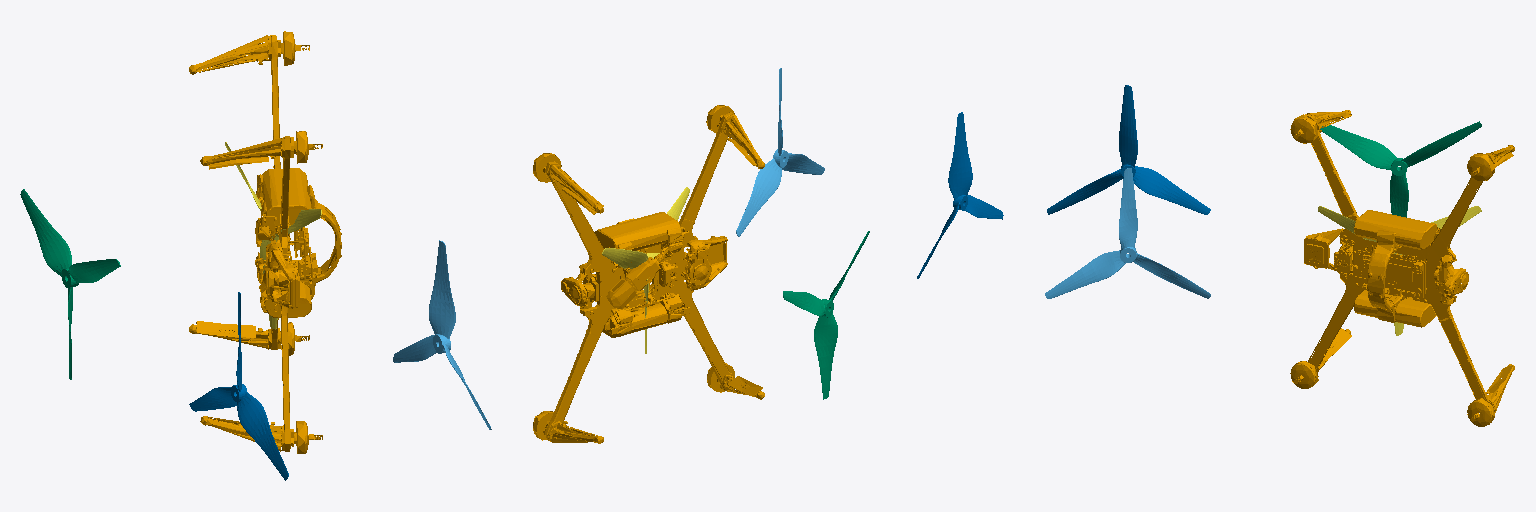
The robot description file, URDF, robot "starling2max":
<?xml version="1.0" encoding="UTF-8"?>
<robot name="starling2max">
  <joint name="joint0" type="continuous">
    <origin xyz="0.095 -0.13 0.0195" rpy="0. 0. 0."/>
    <parent link="vehicle"/>
    <child link="vehicle_rotor0"/>
    <axis xyz="0. 0. 1."/>
  </joint>
  <joint name="joint1" type="continuous">
    <origin xyz="-0.095 0.13 0.0195" rpy="0. 0. 0."/>
    <parent link="vehicle"/>
    <child link="vehicle_rotor1"/>
    <axis xyz="0. 0. 1."/>
  </joint>
  <joint name="joint2" type="continuous">
    <origin xyz="0.095 0.13 0.0195" rpy="0. 0. 0."/>
    <parent link="vehicle"/>
    <child link="vehicle_rotor2"/>
    <axis xyz="0. 0. 1."/>
  </joint>
  <joint name="joint3" type="continuous">
    <origin xyz="-0.095 -0.13 0.0195" rpy="0. 0. 0."/>
    <parent link="vehicle"/>
    <child link="vehicle_rotor3"/>
    <axis xyz="0. 0. 1."/>
  </joint>
  <link name="vehicle">
    <inertial>
      <origin xyz="0.00102 0.00016 0.00741" rpy="0. 0. 0."/>
      <mass value="0.46788"/>
      <inertia ixx="0.002943" ixy="0." ixz="0." iyy="0.001857" iyz="0." izz="0.004649"/>
    </inertial>
    <visual>
      <origin xyz="0.095 0.13 0.005" rpy="1.5707963 -0.0000001 1.103188 "/>
      <geometry>
        <mesh filename="meshes/body.stl" scale="1. 1. 1."/>
      </geometry>
    </visual>
    <collision>
      <origin xyz="0.095 0.13 0.005" rpy="1.5707963 -0.0000001 1.103188 "/>
      <geometry>
        <mesh filename="meshes/body.stl" scale="1. 1. 1."/>
      </geometry>
    </collision>
  </link>
  <link name="vehicle_rotor0">
    <inertial>
      <origin xyz="0. 0. 0." rpy="0. 0. 0."/>
      <mass value="0.007"/>
      <inertia ixx="0.000016" ixy="0." ixz="0." iyy="0.000016" iyz="0." izz="0.00003"/>
    </inertial>
    <visual>
      <origin xyz="-0. -0. 0." rpy="1.5707964 0. 1.5707963"/>
      <geometry>
        <mesh filename="meshes/rotor0.stl" scale="1. 1. 1."/>
      </geometry>
    </visual>
    <collision>
      <origin xyz="-0. -0. 0." rpy="1.5707964 0. 1.5707963"/>
      <geometry>
        <mesh filename="meshes/rotor0.stl" scale="1. 1. 1."/>
      </geometry>
    </collision>
  </link>
  <link name="vehicle_rotor1">
    <inertial>
      <origin xyz="0. 0. 0." rpy="0. 0. 0."/>
      <mass value="0.007"/>
      <inertia ixx="0.000016" ixy="0." ixz="0." iyy="0.000016" iyz="0." izz="0.00003"/>
    </inertial>
    <visual>
      <origin xyz="0. 0. -0." rpy="1.5707964 0. -1.5707959"/>
      <geometry>
        <mesh filename="meshes/rotor1.stl" scale="1. 1. 1."/>
      </geometry>
    </visual>
    <collision>
      <origin xyz="0. 0. -0." rpy="1.5707964 0. -1.5707959"/>
      <geometry>
        <mesh filename="meshes/rotor1.stl" scale="1. 1. 1."/>
      </geometry>
    </collision>
  </link>
  <link name="vehicle_rotor2">
    <inertial>
      <origin xyz="0. 0. 0." rpy="0. 0. 0."/>
      <mass value="0.007"/>
      <inertia ixx="0.000016" ixy="0." ixz="0." iyy="0.000016" iyz="0." izz="0.00003"/>
    </inertial>
    <visual>
      <origin xyz="0. -0. 0." rpy="1.5707964 0. -1.5707959"/>
      <geometry>
        <mesh filename="meshes/rotor2.stl" scale="1. 1. 1."/>
      </geometry>
    </visual>
    <collision>
      <origin xyz="0. -0. 0." rpy="1.5707964 0. -1.5707959"/>
      <geometry>
        <mesh filename="meshes/rotor2.stl" scale="1. 1. 1."/>
      </geometry>
    </collision>
  </link>
  <link name="vehicle_rotor3">
    <inertial>
      <origin xyz="0. 0. 0." rpy="0. 0. 0."/>
      <mass value="0.007"/>
      <inertia ixx="0.000016" ixy="0." ixz="0." iyy="0.000016" iyz="0." izz="0.00003"/>
    </inertial>
    <visual>
      <origin xyz="-0. 0. -0." rpy="1.5707964 0. 1.5707963"/>
      <geometry>
        <mesh filename="meshes/rotor3.stl" scale="1. 1. 1."/>
      </geometry>
    </visual>
    <collision>
      <origin xyz="-0. 0. -0." rpy="1.5707964 0. 1.5707963"/>
      <geometry>
        <mesh filename="meshes/rotor3.stl" scale="1. 1. 1."/>
      </geometry>
    </collision>
  </link>
</robot>

--- Facts derived from the render (not from the file) ---
The picture shows the robot from 3 angles, left to right: view 1: azimuth 30°, elevation 25°; view 2: azimuth 150°, elevation 25°; view 3: azimuth 270°, elevation 25°; orthographic projection.
Model starling2max with 5 links and 4 joints (4 continuous), rooted at vehicle, posed all joints at 0.
Visible links, largest first — view 1: vehicle, vehicle_rotor1, vehicle_rotor0, vehicle_rotor3, vehicle_rotor2; view 2: vehicle, vehicle_rotor0, vehicle_rotor1, vehicle_rotor3, vehicle_rotor2; view 3: vehicle, vehicle_rotor0, vehicle_rotor3, vehicle_rotor1, vehicle_rotor2.
Boxes of the visible links, x1,y1,x2,y2 form: vehicle: (189, 31, 341, 453); vehicle_rotor1: (20, 189, 120, 379); vehicle_rotor0: (393, 240, 491, 429); vehicle_rotor3: (189, 292, 288, 480); vehicle_rotor2: (225, 142, 321, 329); vehicle: (533, 105, 764, 443); vehicle_rotor0: (736, 68, 824, 236); vehicle_rotor1: (783, 231, 869, 399); vehicle_rotor3: (917, 112, 1003, 278); vehicle_rotor2: (602, 187, 689, 353); vehicle: (1290, 110, 1514, 426); vehicle_rotor0: (1045, 168, 1210, 298); vehicle_rotor3: (1047, 85, 1210, 214); vehicle_rotor1: (1320, 121, 1481, 217); vehicle_rotor2: (1318, 206, 1481, 335).
Bounding box of the posed robot: 0.2738 × 0.4521 × 0.288 m (x, y, z).
5 mesh visuals loaded from 5 distinct referenced files (5 binary STL).
